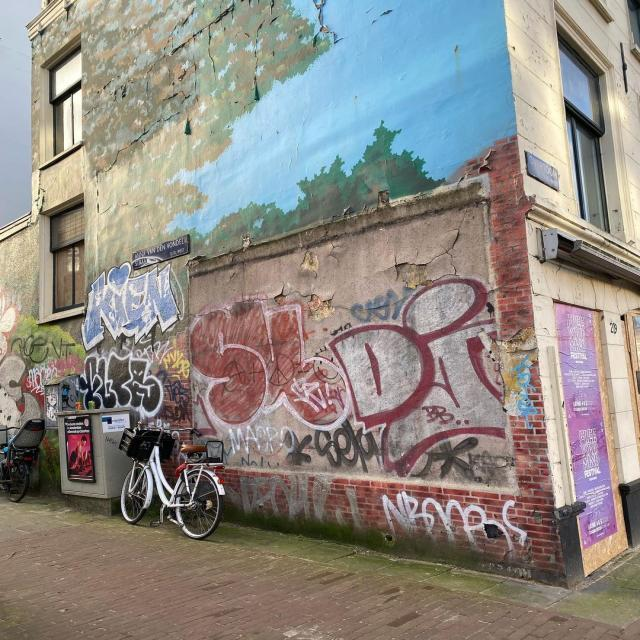-: (332, 283, 516, 474), (180, 292, 347, 437), (374, 486, 532, 562), (231, 463, 371, 547), (290, 426, 490, 484), (75, 246, 179, 347), (69, 352, 162, 421), (143, 342, 195, 382)
